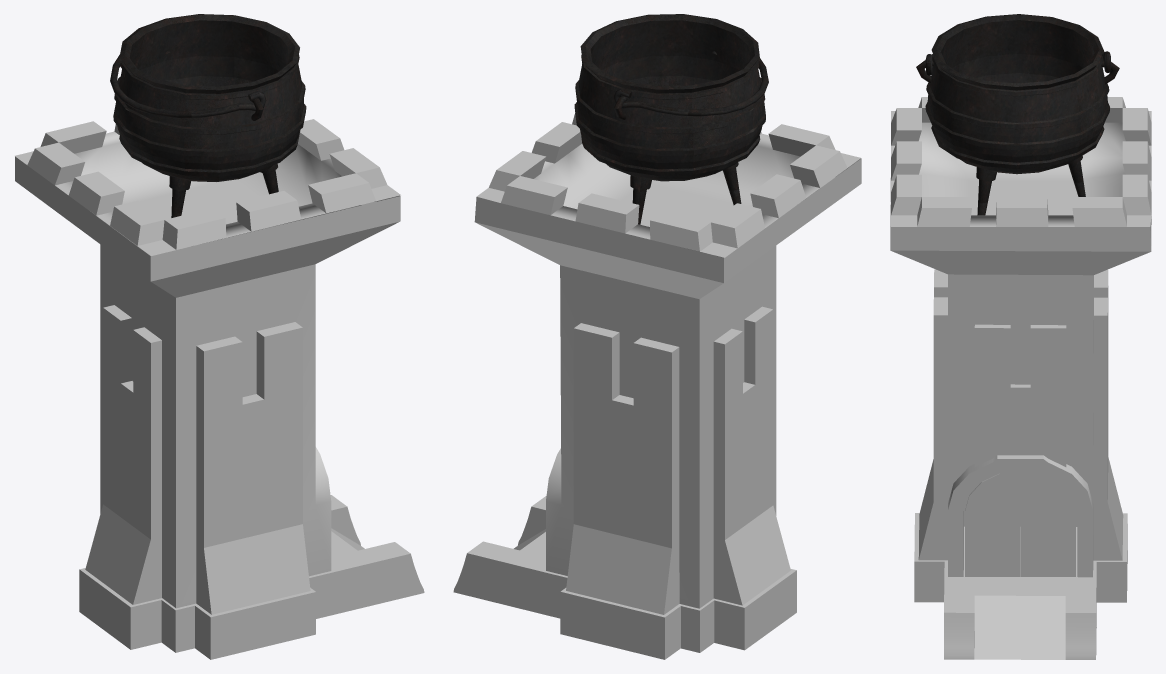
Rendered from UD_Tower_Cauldron.FBX.
3 views of the same model, side by side, from view 1: azimuth 30°, elevation 25°; view 2: azimuth 150°, elevation 25°; view 3: azimuth 270°, elevation 25° (orthographic). The views are drawn at different scales.
Visible parts, largest first — view 1: pPlane9, Line03, Line09, Line05; view 2: pPlane9, Line03, Line09; view 3: pPlane9, Line03, Line04, Line01.
Part boxes in pixels (bbox=[...]): pPlane9: bbox=[15, 119, 424, 659]; Line03: bbox=[113, 14, 306, 181]; Line09: bbox=[110, 54, 266, 117]; Line05: bbox=[169, 176, 191, 217]; pPlane9: bbox=[453, 113, 861, 659]; Line03: bbox=[574, 14, 765, 181]; Line09: bbox=[613, 58, 768, 116]; pPlane9: bbox=[890, 97, 1151, 659]; Line03: bbox=[925, 14, 1109, 174]; Line04: bbox=[976, 167, 996, 215]; Line01: bbox=[1068, 156, 1085, 196].
Bounding box in the file's own units: 4.58 × 8.07 × 3.62.
